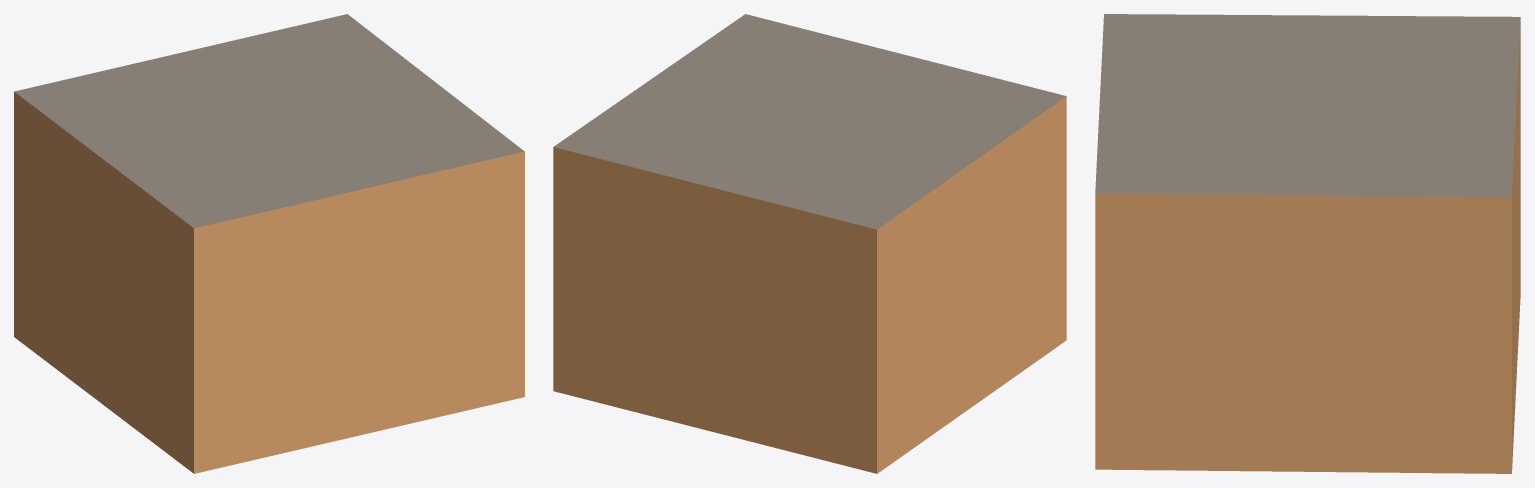
3 renders of one model, left to right at view 1: azimuth 30°, elevation 25°; view 2: azimuth 150°, elevation 25°; view 3: azimuth 270°, elevation 25°, orthographic. The views are drawn at different scales.
Parts seen in each view (by area): view 1: element.013; view 2: element.013; view 3: element.013.
Part boxes in pixels (box(x1,y1,x2,y2)): element.013: box(14, 14, 524, 473); element.013: box(553, 14, 1066, 473); element.013: box(1095, 14, 1520, 473).
Bounding box in the file's own units: 11.03 × 7.74 × 10.8.
